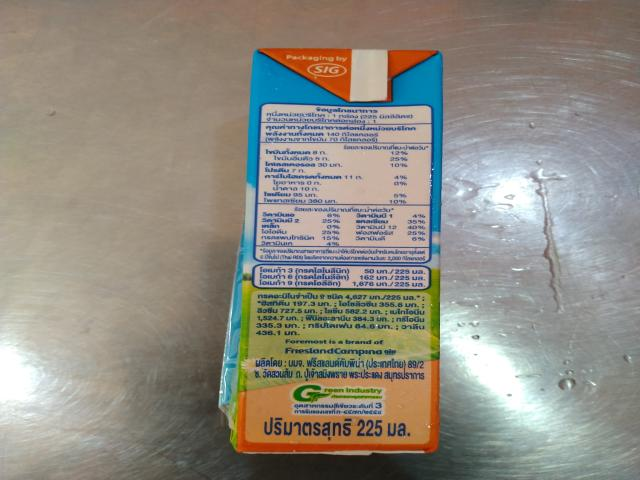drink_box: (228, 41, 468, 460)
